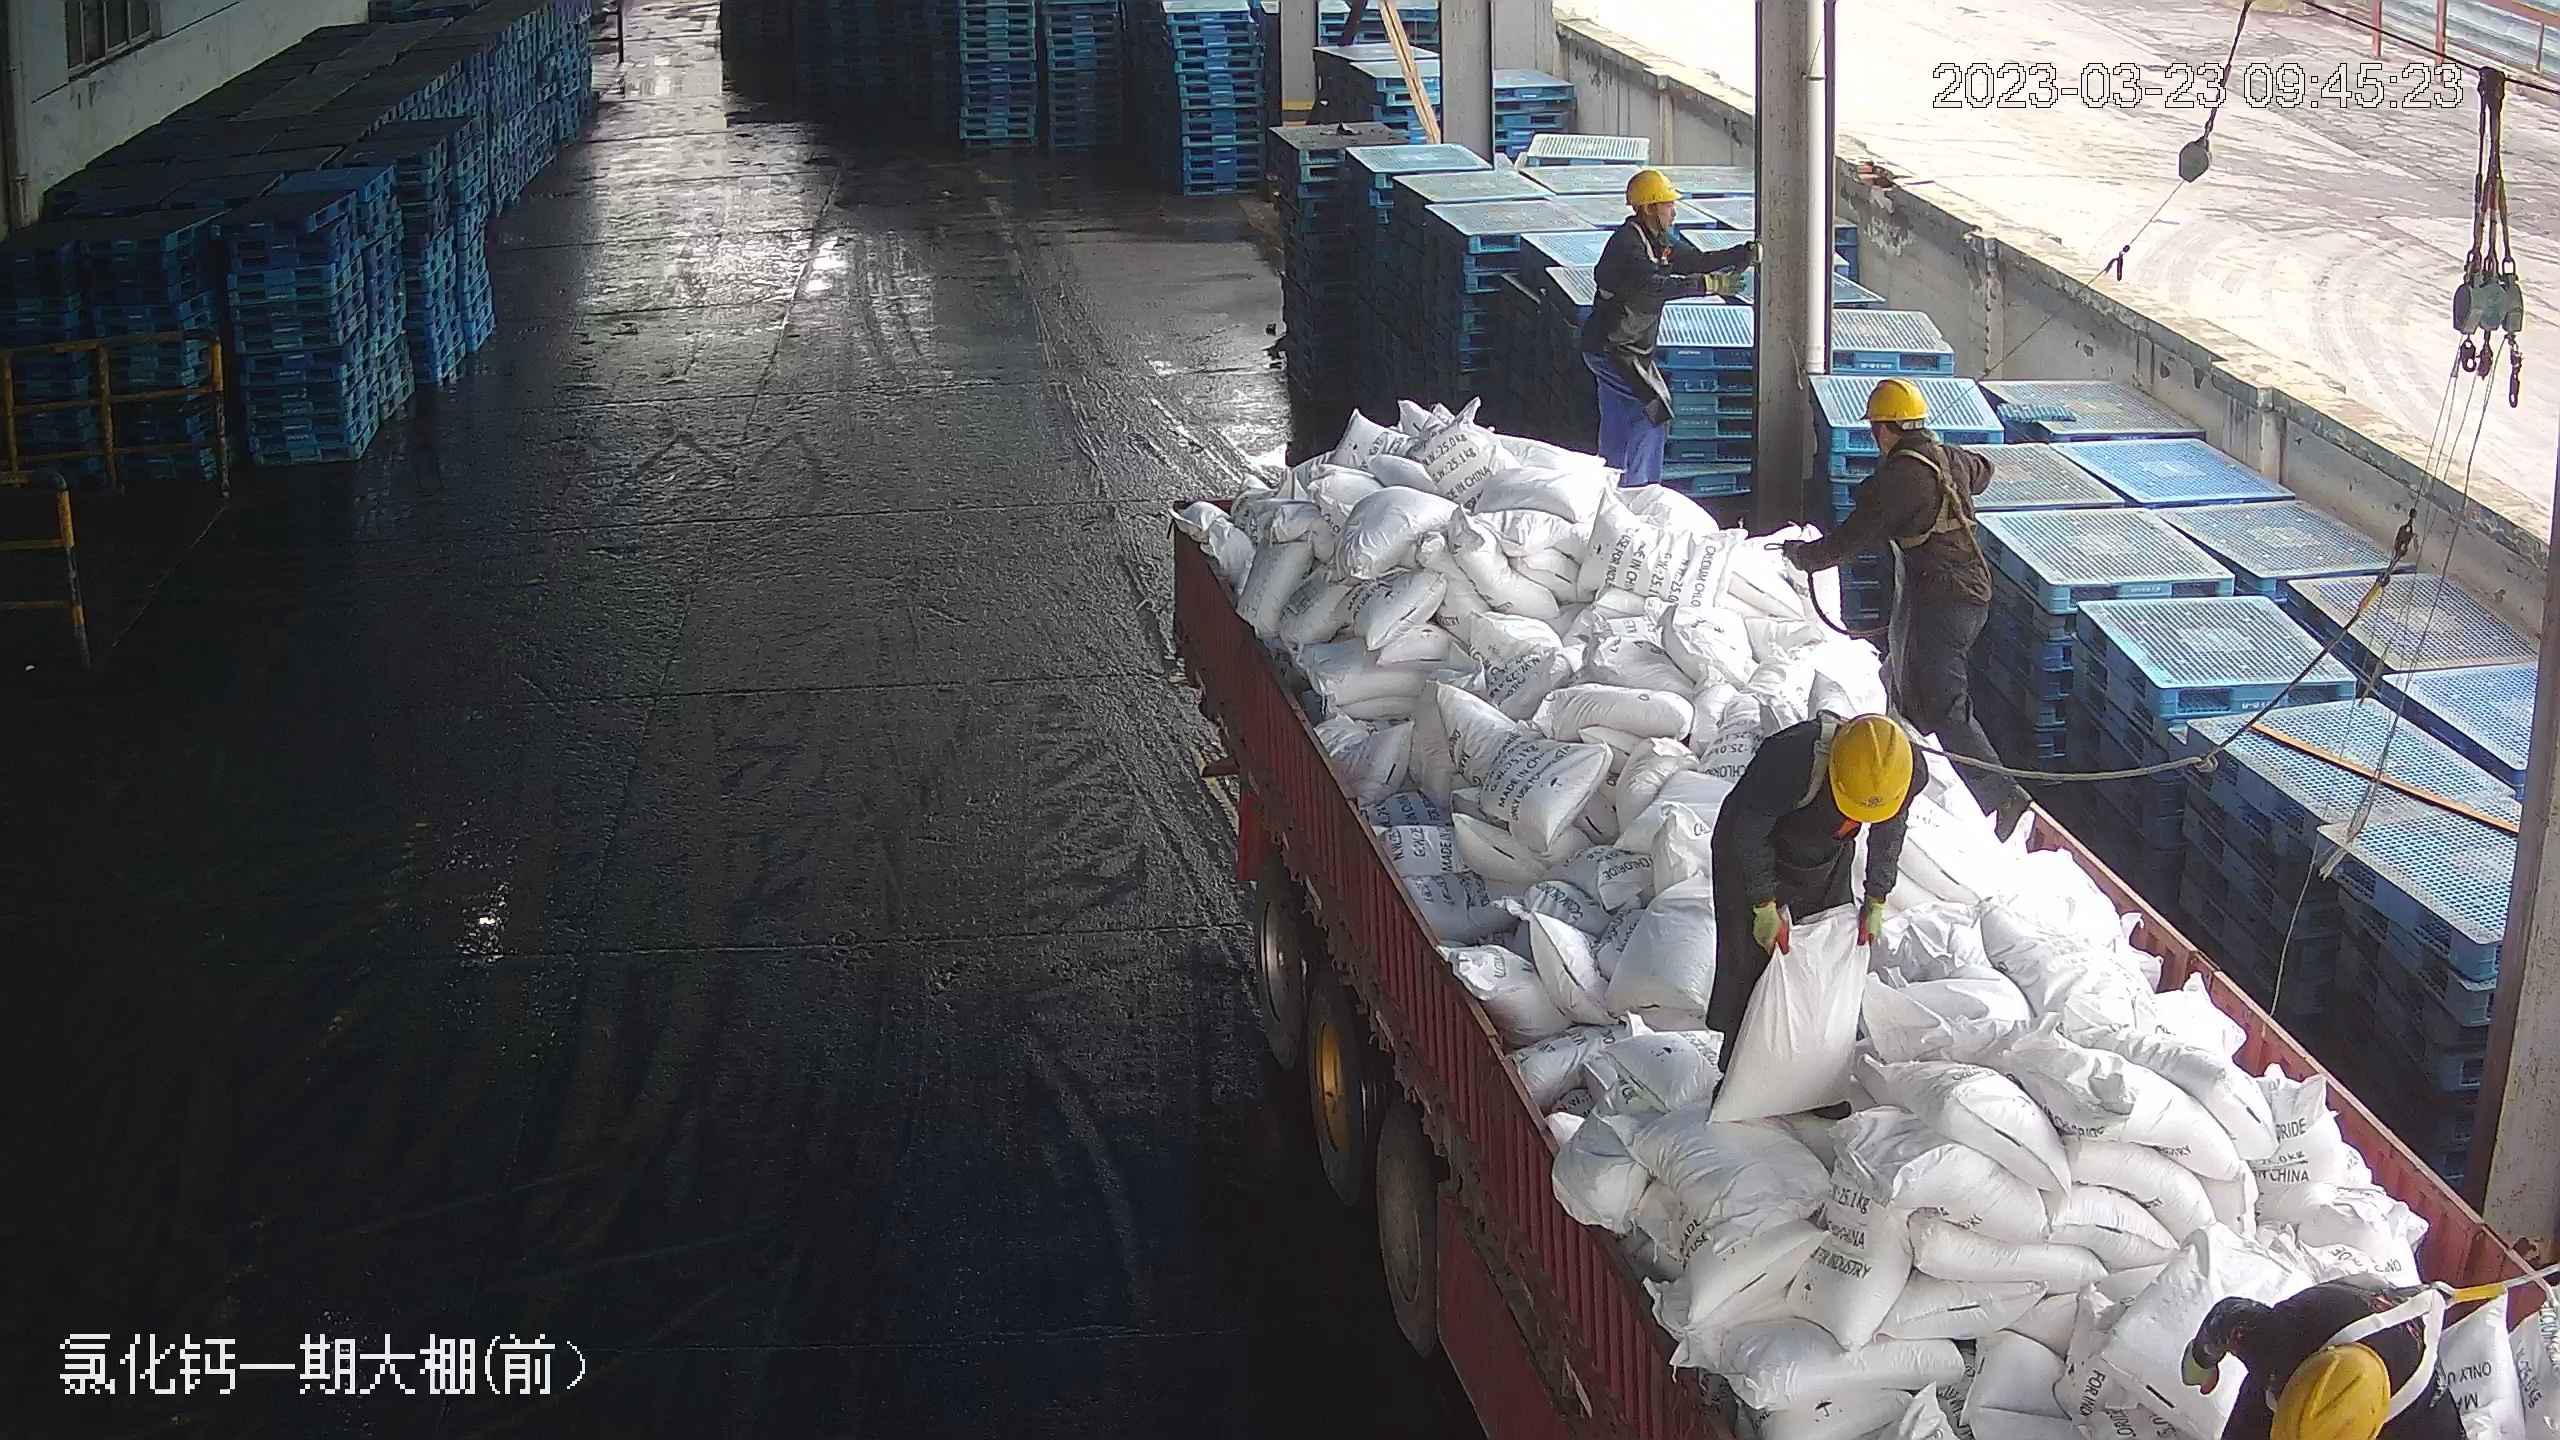belt: (2328, 1257, 2490, 1422), (1763, 701, 1894, 831), (1886, 441, 1990, 547), (1606, 217, 1682, 281)
head: (1756, 706, 1918, 837), (1847, 373, 1976, 509), (1601, 165, 1701, 277)
helmet: (2276, 1340, 2390, 1438), (1825, 707, 1914, 819), (1859, 374, 1930, 423), (1623, 165, 1683, 208)
people: (1773, 374, 1995, 759), (1704, 709, 1913, 1061), (1577, 164, 1755, 502)
truck: (1133, 409, 2505, 1439)
